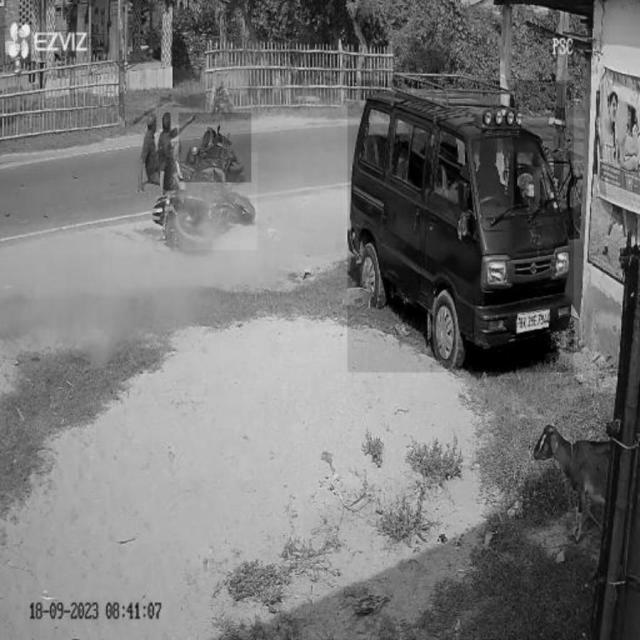person: (138, 112, 179, 194)
vehicle: (348, 79, 574, 373), (158, 152, 258, 250), (176, 112, 252, 182)
